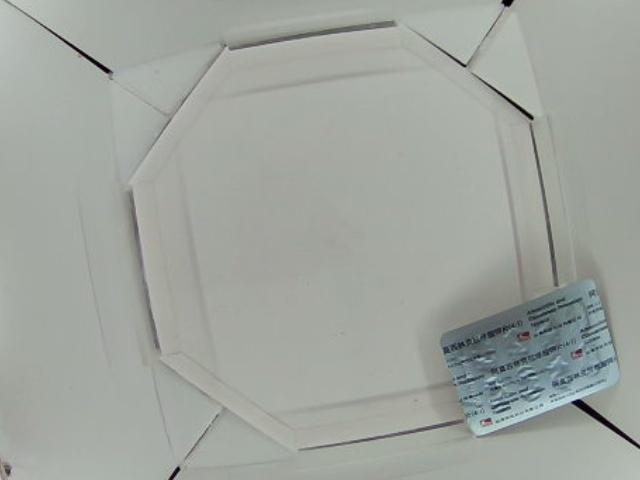Medicine: (438, 279, 621, 433)
